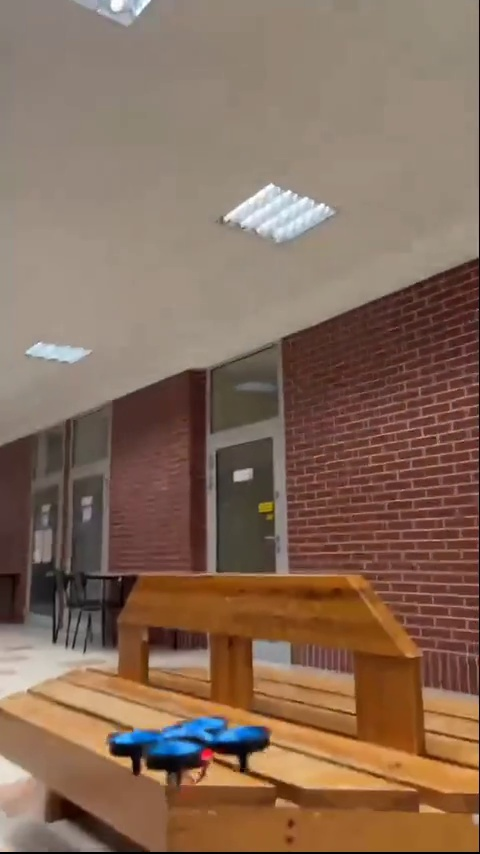drone: (104, 716, 277, 788)
